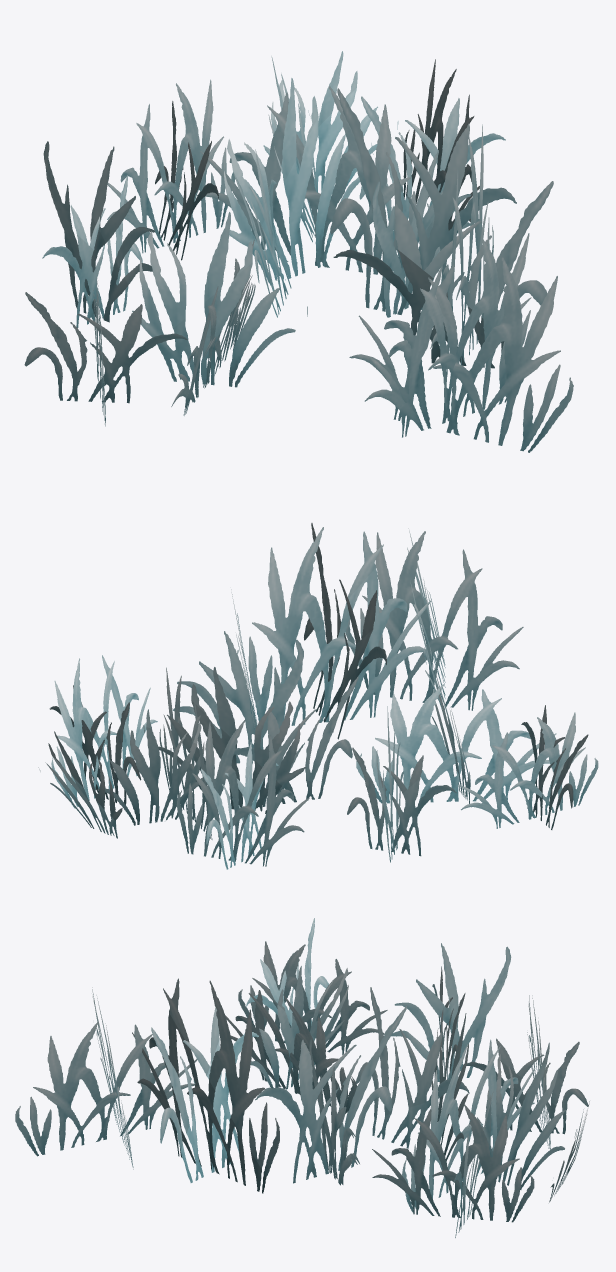
Rendered from SV_PLT_xueyuan_grass_0.FBX.
3 views of the same model, one above another, from view 1: azimuth 30°, elevation 25°; view 2: azimuth 150°, elevation 25°; view 3: azimuth 270°, elevation 25° (orthographic). The views are drawn at different scales.
Visible parts, largest first — view 1: SV_PLT_xueyuan_grass_0; view 2: SV_PLT_xueyuan_grass_0; view 3: SV_PLT_xueyuan_grass_0.
Part boxes in pixels (x1,y1,x2,y2): SV_PLT_xueyuan_grass_0: [24, 51, 573, 452]; SV_PLT_xueyuan_grass_0: [38, 523, 598, 869]; SV_PLT_xueyuan_grass_0: [15, 918, 589, 1237].
Size of the model in its own units: 3.42 by 1.57 by 3.62.
Materials: 1 (1 with a texture image).
